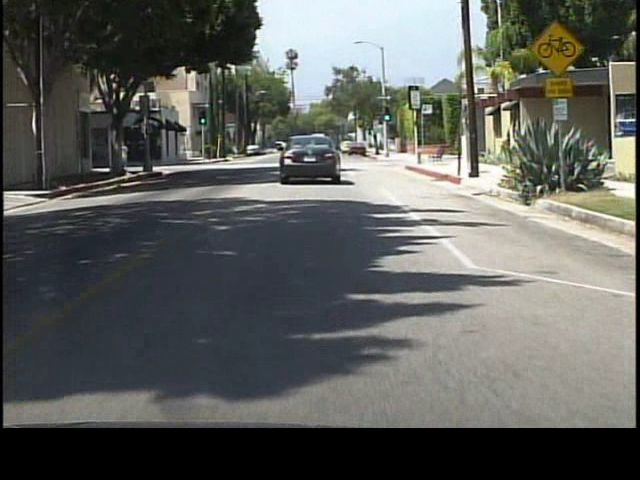person: (121, 137, 134, 173)
